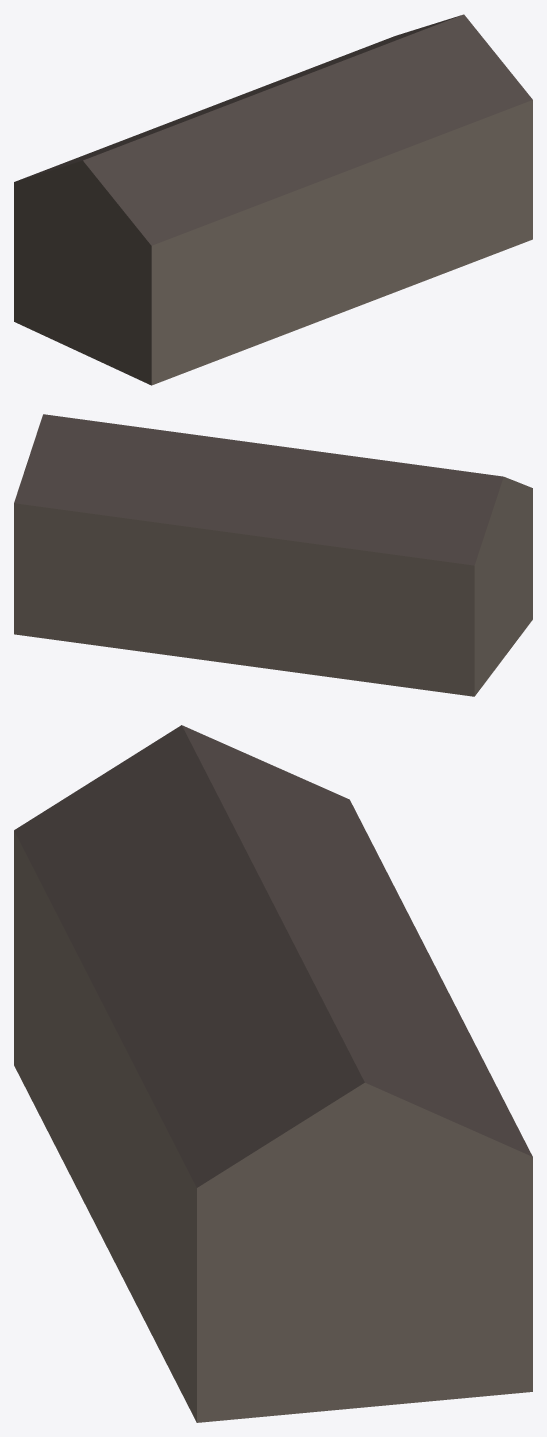
3 renders of one model, top to bottom at view 1: azimuth 30°, elevation 25°; view 2: azimuth 150°, elevation 25°; view 3: azimuth 270°, elevation 25°, orthographic. The views are drawn at different scales.
Visible parts, largest first — view 1: HP-w859447902; view 2: HP-w859447902; view 3: HP-w859447902.
Boxes of the visible parts, bbox=[...] form: HP-w859447902: bbox=[14, 14, 532, 385]; HP-w859447902: bbox=[14, 414, 532, 696]; HP-w859447902: bbox=[14, 725, 532, 1422].
Size of the model in its own units: 31.94 by 12.45 by 18.03.
